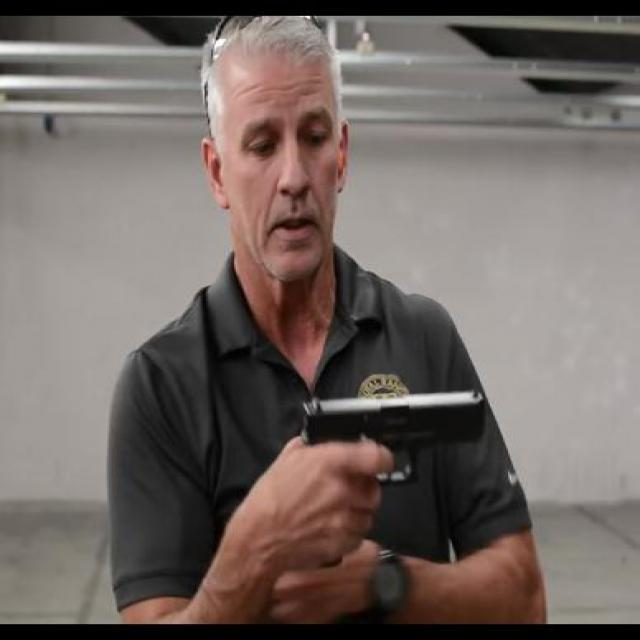gun: (297, 382, 487, 557)
